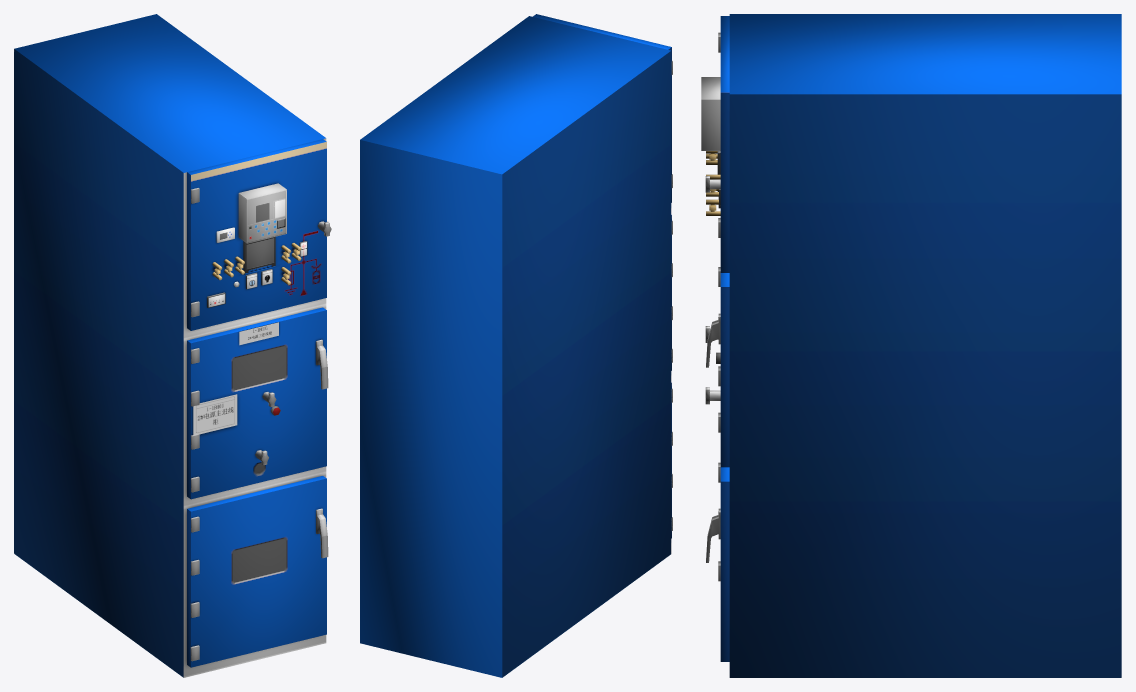
File: HVIC.glb
3 renders of one model, left to right at view 1: azimuth 30°, elevation 25°; view 2: azimuth 150°, elevation 25°; view 3: azimuth 270°, elevation 25°, orthographic. The views are drawn at different scales.
Parts seen in each view (by area): view 1: Cylinder001; view 2: Cylinder001; view 3: Cylinder001.
Boxes of the visible parts, bbox=[...] form: Cylinder001: bbox=[14, 14, 331, 677]; Cylinder001: bbox=[360, 14, 672, 677]; Cylinder001: bbox=[701, 14, 1121, 677].
Bounding box in the file's own units: 65 × 220 × 144.
Materials: 1 (1 with a texture image).
